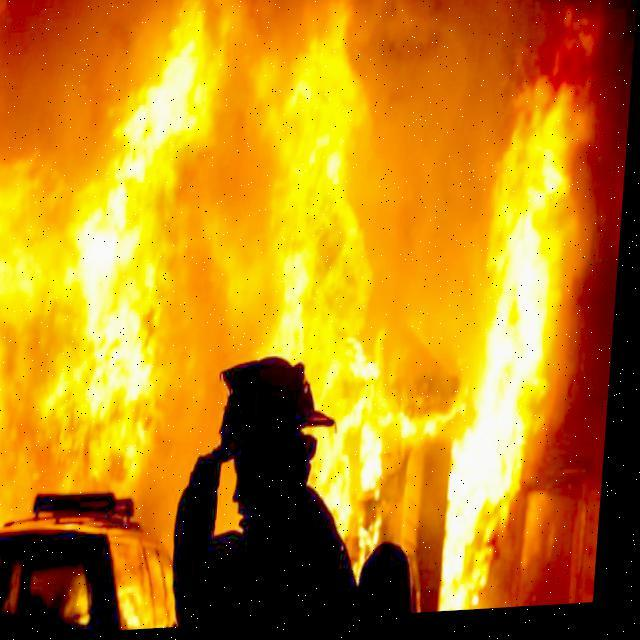Fire: (0, 0, 594, 639)
